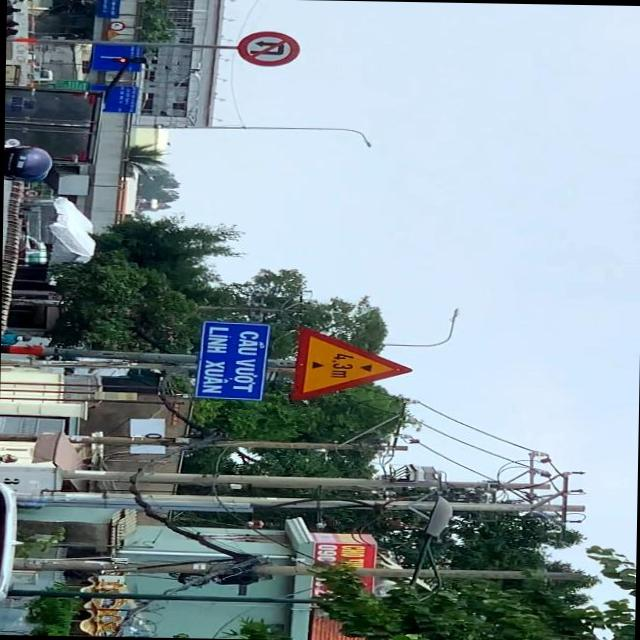P-124a1: (236, 31, 302, 65)
W-239b: (285, 328, 414, 398)
